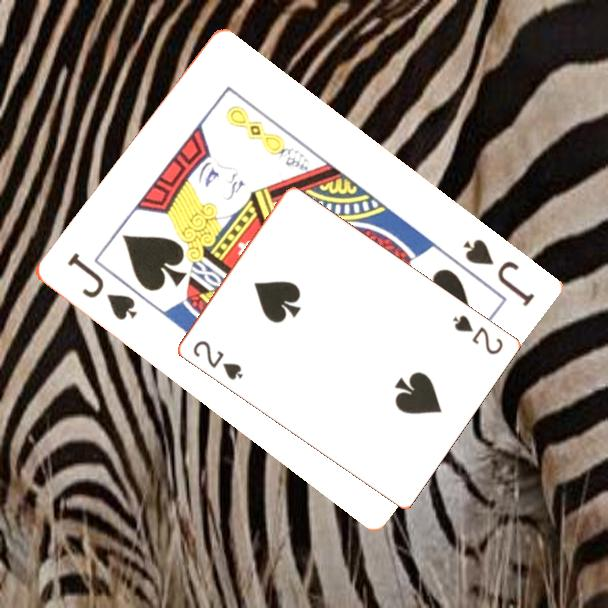s02: (448, 311, 505, 358), (189, 337, 245, 383)
s11: (458, 235, 537, 310), (62, 249, 139, 324)
